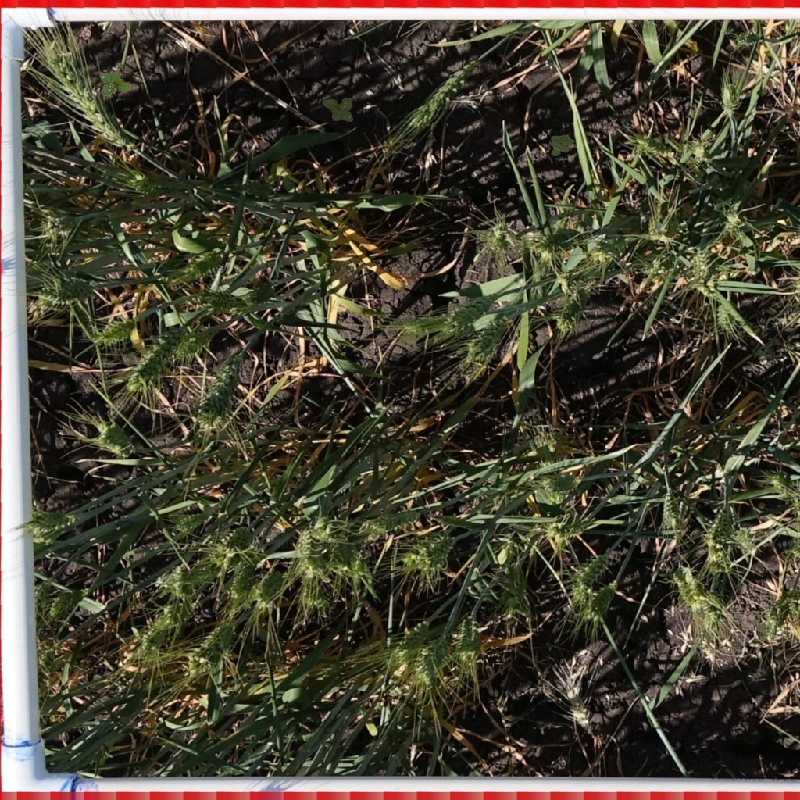spikelet: (42, 42, 130, 150), (407, 61, 472, 131), (124, 330, 180, 393), (194, 353, 243, 425), (183, 622, 235, 676), (703, 501, 738, 569), (466, 314, 512, 365), (403, 528, 456, 572), (385, 619, 431, 665), (36, 274, 95, 308), (551, 283, 591, 332), (25, 507, 77, 541), (444, 296, 491, 333), (527, 222, 576, 257), (209, 524, 255, 561), (671, 564, 708, 610), (414, 636, 449, 684), (571, 551, 613, 591), (363, 505, 419, 534), (584, 231, 630, 266), (451, 616, 483, 665), (173, 323, 215, 359), (38, 206, 78, 243), (326, 534, 362, 575), (658, 487, 687, 536), (583, 579, 618, 619), (544, 512, 589, 543), (253, 566, 285, 609), (95, 420, 134, 455), (184, 248, 226, 279), (95, 316, 134, 346), (684, 247, 713, 286), (766, 467, 797, 499), (733, 524, 760, 557)
weed: (99, 67, 134, 97), (322, 98, 353, 122), (551, 135, 574, 156)
